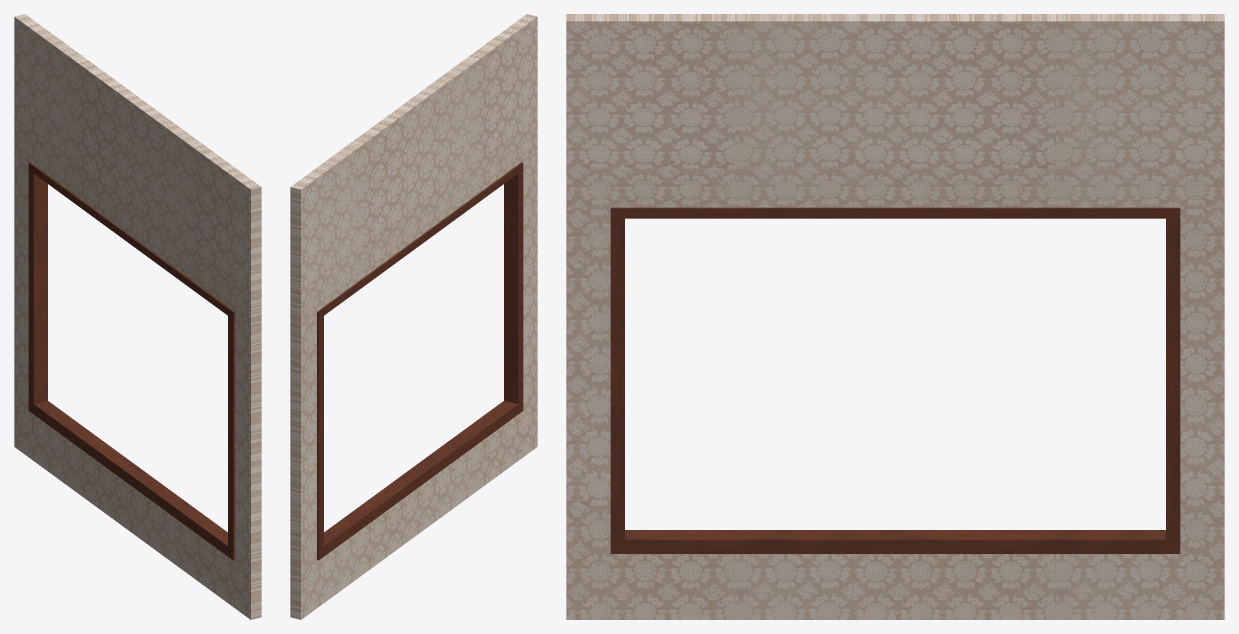
File: SM_WallPaper01E.fbx
3 views of the same model, side by side, from view 1: azimuth 30°, elevation 25°; view 2: azimuth 150°, elevation 25°; view 3: azimuth 270°, elevation 25° (orthographic). The views are drawn at different scales.
Parts seen in each view (by area): view 1: SM_WallPaper01E; view 2: SM_WallPaper01E; view 3: SM_WallPaper01E.
Part boxes in pixels (box(x1,y1,x2,y2)): SM_WallPaper01E: box(14, 14, 261, 619); SM_WallPaper01E: box(290, 14, 537, 619); SM_WallPaper01E: box(566, 14, 1224, 619).
Size of the model in its own units: 8.99 by 260 by 261.
2 materials, 2 textured.
